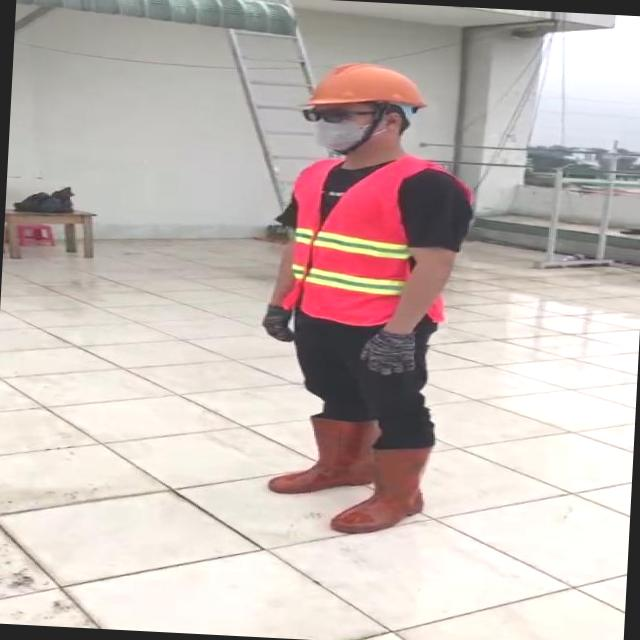boots: (334, 441, 436, 540), (270, 416, 378, 498)
helmet: (296, 58, 433, 114)
vest: (277, 153, 474, 330)
